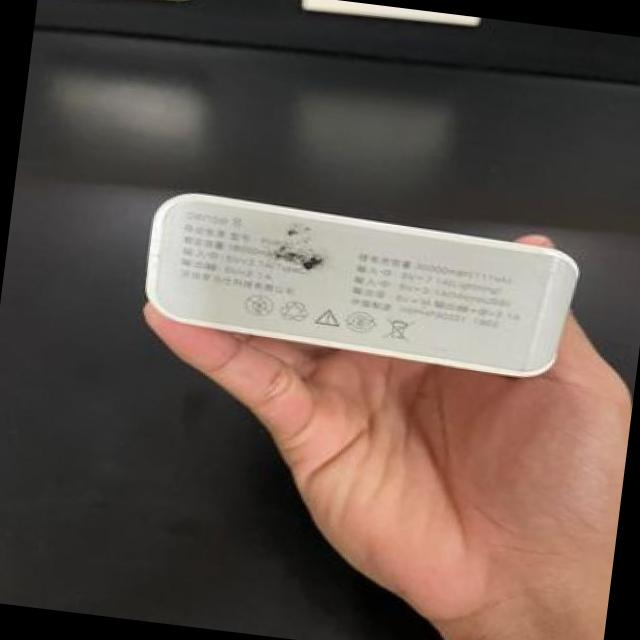power_bank: (131, 180, 587, 388)
